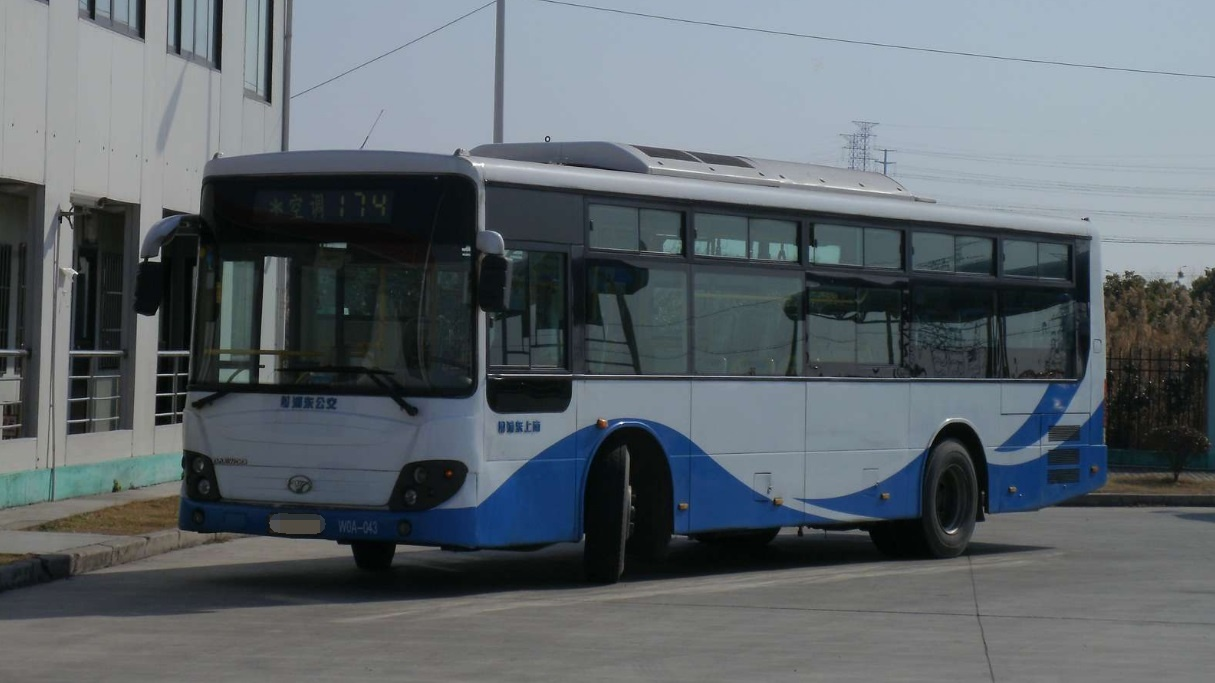bus: (143, 127, 1113, 617)
